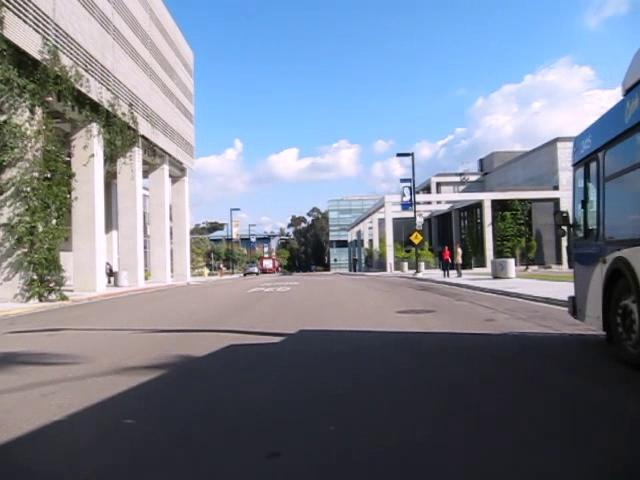pedestrianCrossing: (408, 229, 424, 246)
